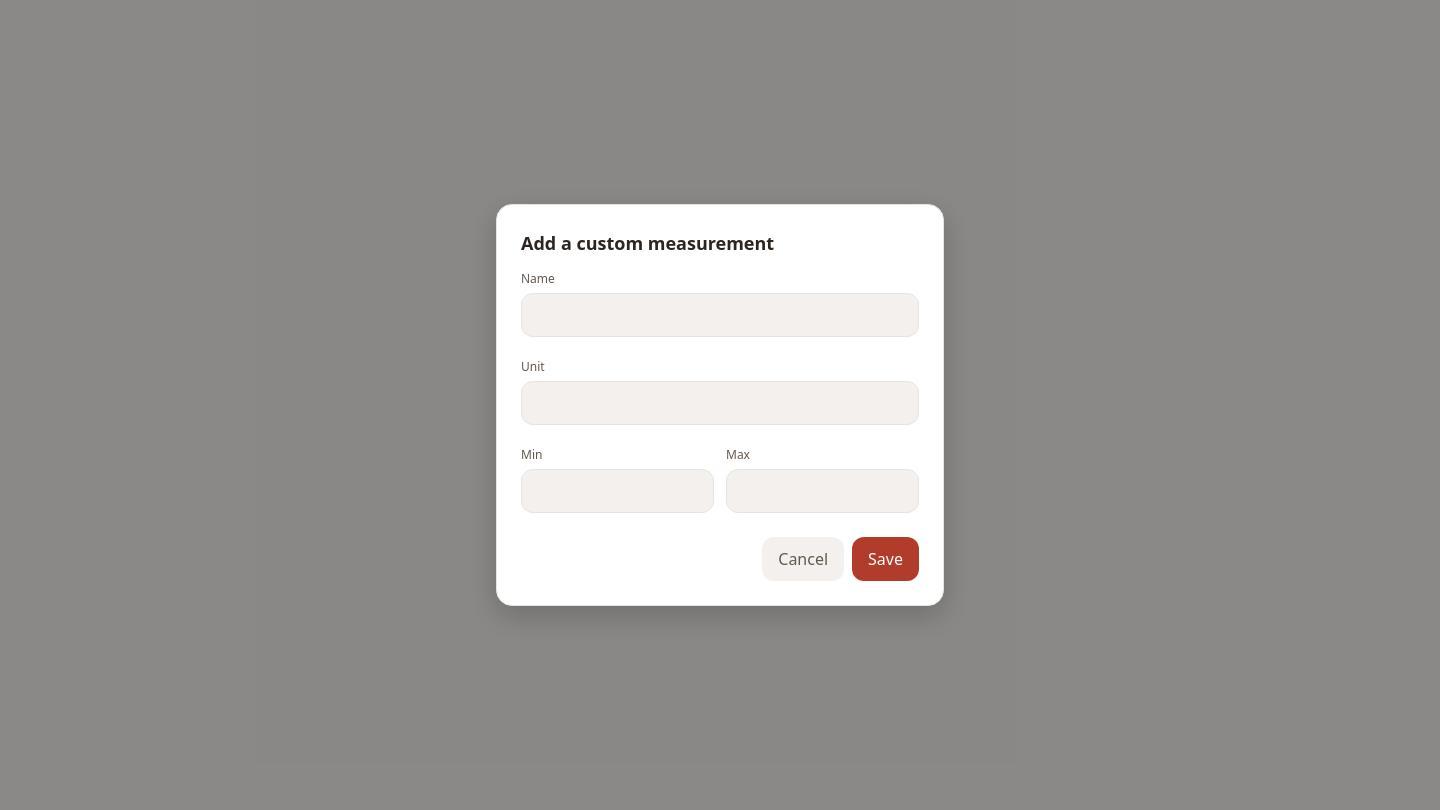
Scenario: CustomItemModal — vital kind › shows error when unit is missing on submit
The width and height of the screenshot is (1440, 810).
Type "Pain" into the field with test id "custom-item-label" at coordinates (720, 315), box [521, 293, 919, 337]
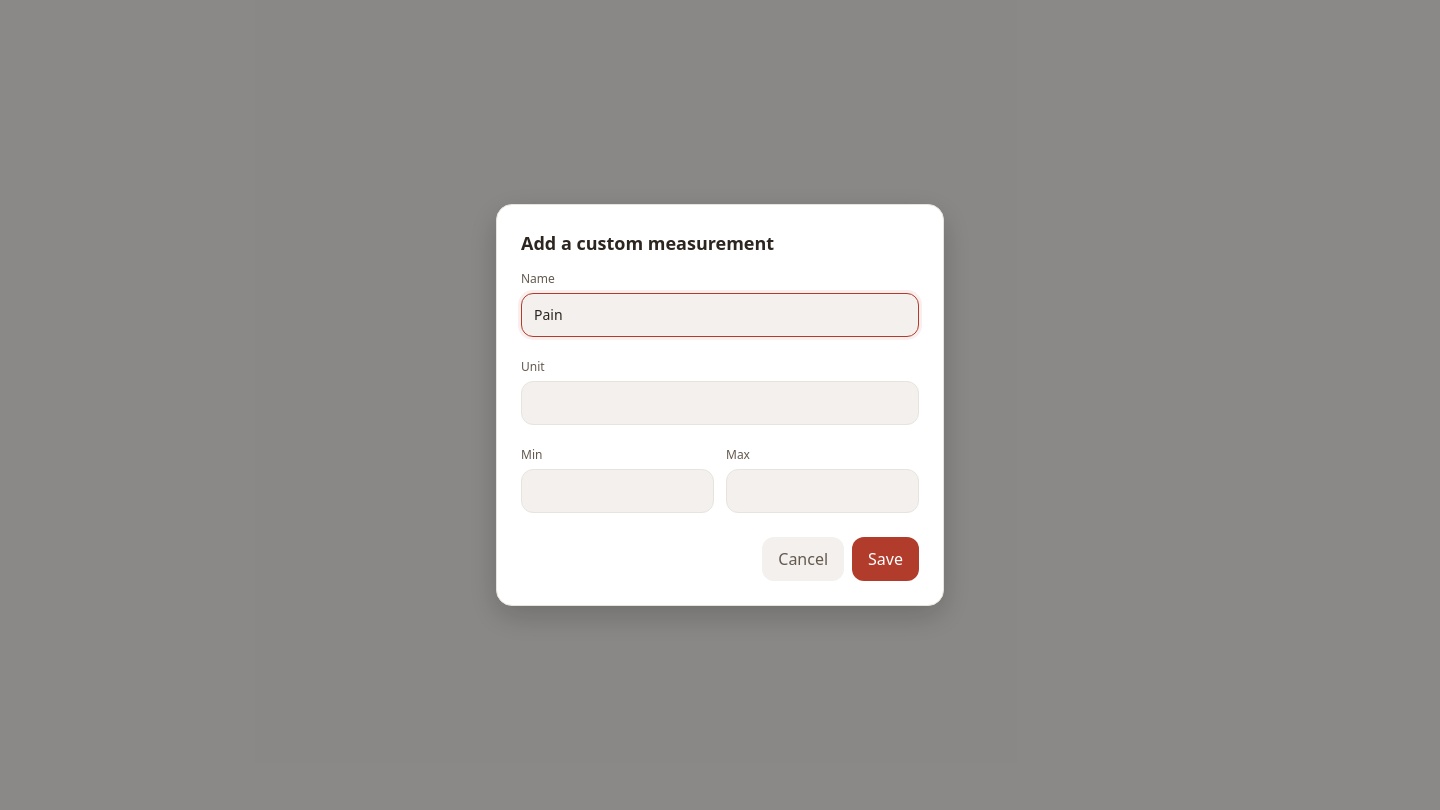
// unit left blank
Click the button with test id "custom-item-save" at coordinates (886, 559), box [852, 537, 919, 581]
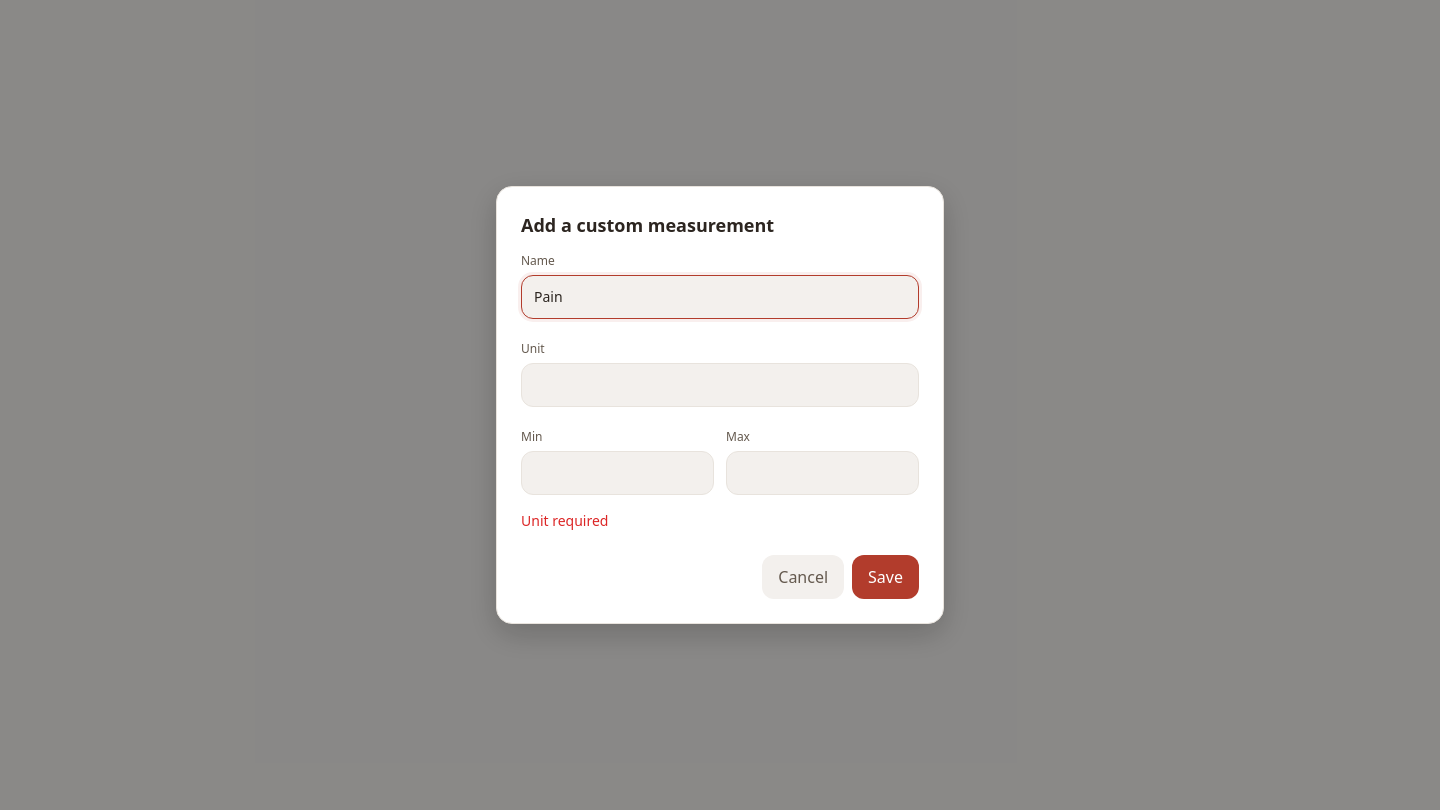
Expected: the text "Unit required" is shown, [521, 511, 608, 530]
